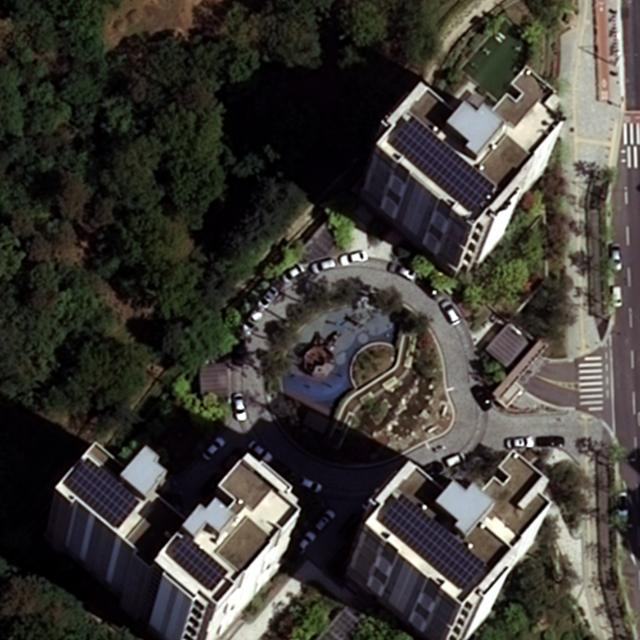panel: (379, 492, 488, 595), (386, 114, 495, 213), (61, 458, 143, 530), (169, 532, 231, 592)
